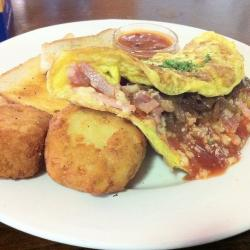ketchup: (111, 19, 179, 61)
omelette: (26, 41, 246, 144)
